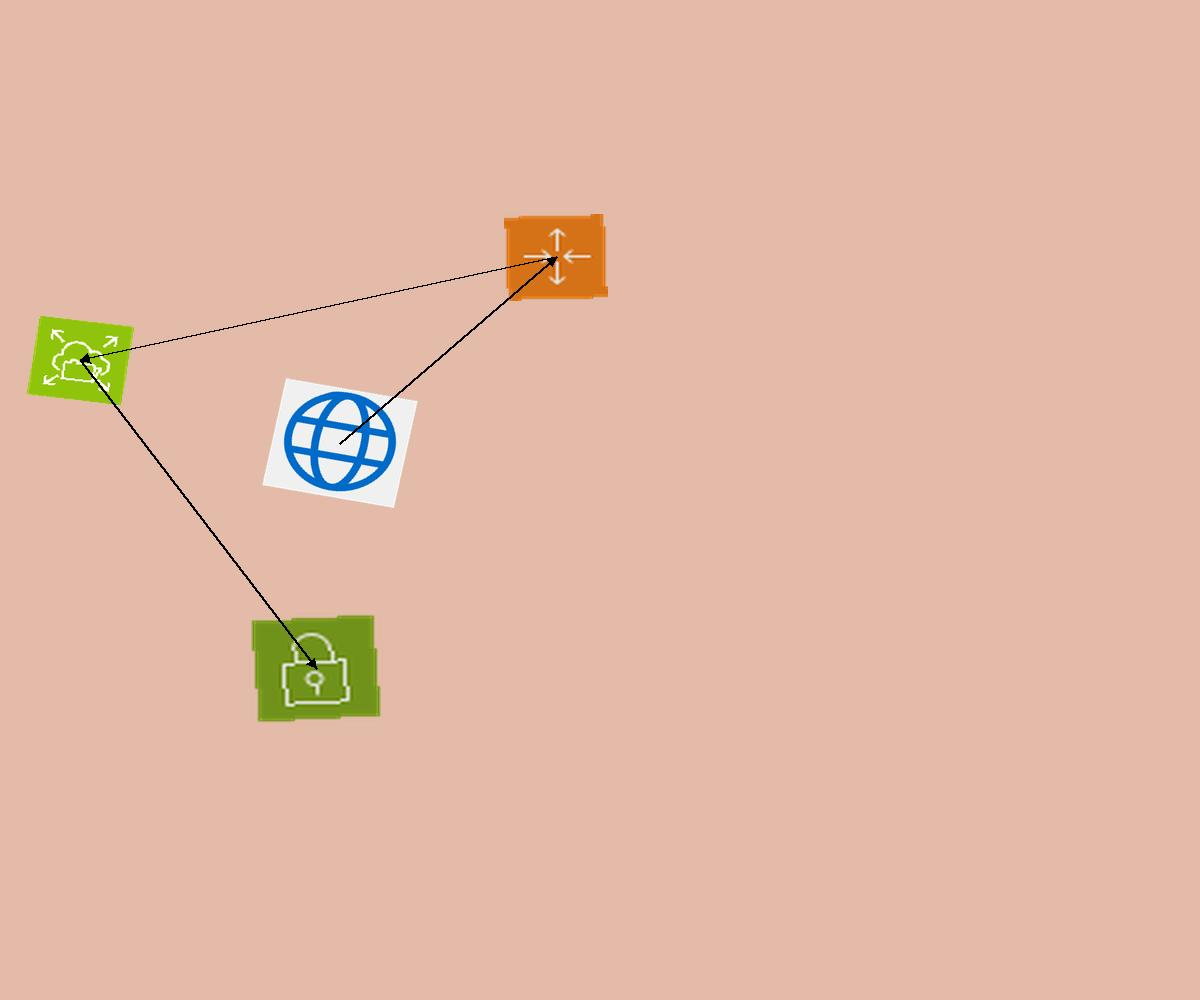AWS-EFS: (26, 315, 135, 406)
AWS-Public-subnet: (249, 613, 383, 724)
AWS-Scaling-group: (504, 214, 608, 301)
Azure_http: (262, 378, 418, 508)
